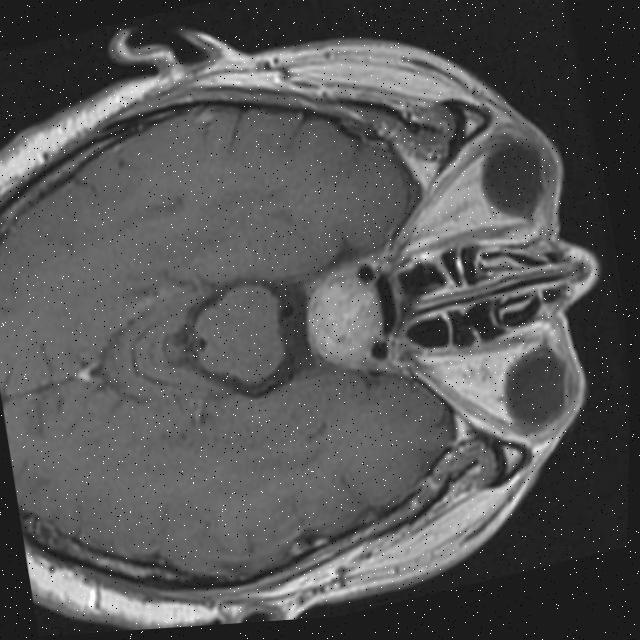Pituitary: (297, 271, 390, 362)
